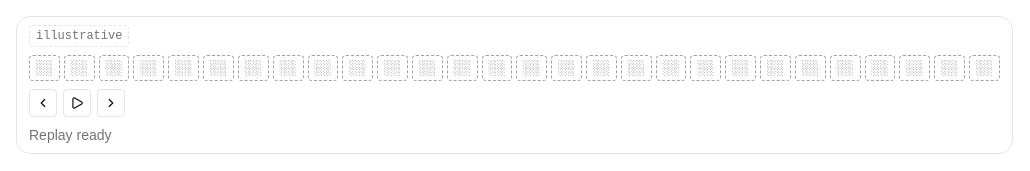
DiffusionChat › pause/resume via the inline toggle changes player status
The image size is (1030, 171).
Expected: the text "Replay ready" is shown, [29,125,112,145]
Click the button named "Resume replay": click(77, 103) [63,89,91,117]
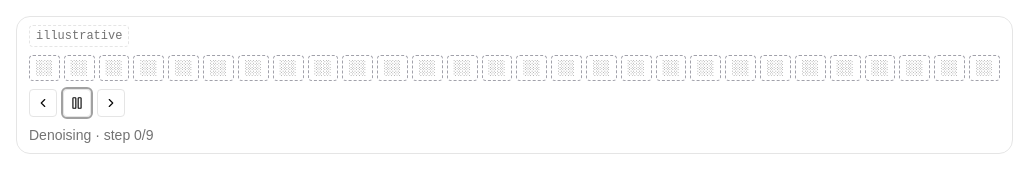
Now the text "Denoising · step 0/9" is shown, box [29,125,154,145]
Click the button named "Pause replay": click(77, 103) [63,89,91,117]
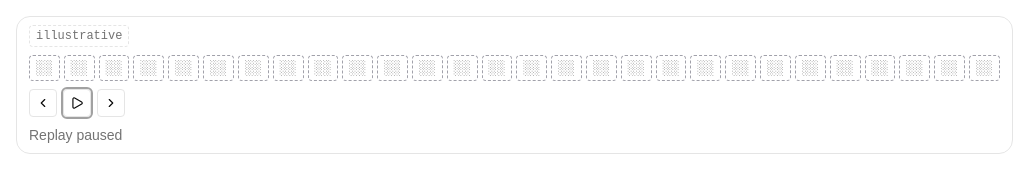
Now the text "Replay paused" is shown, box [29,125,122,145]
